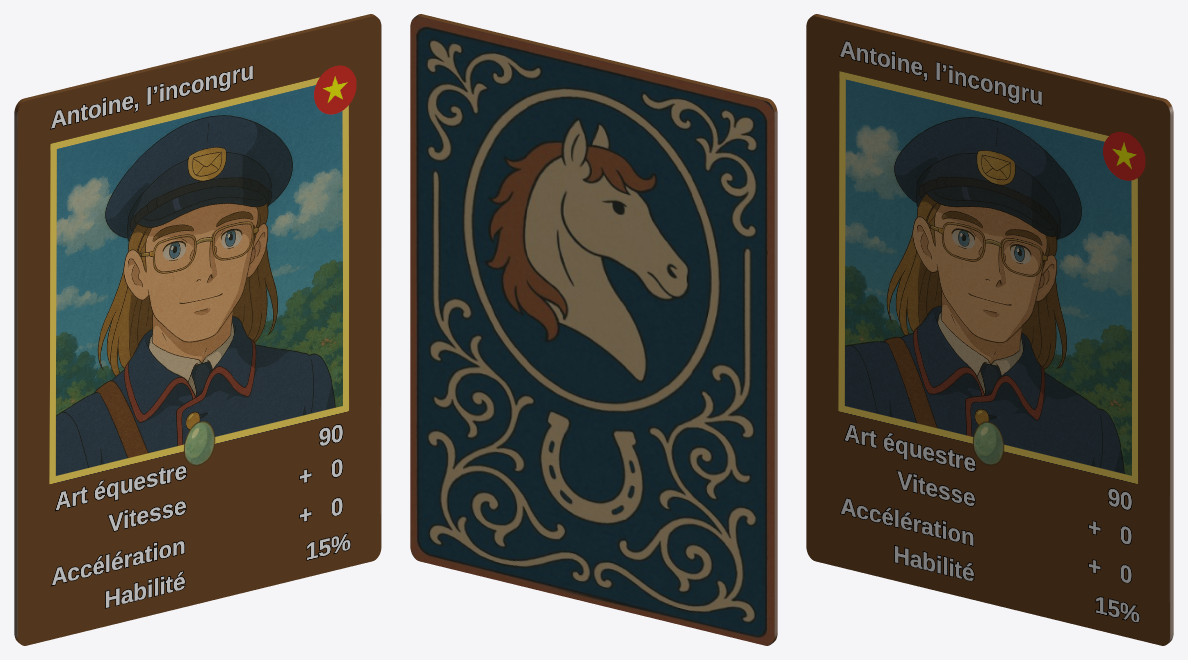
The model's file is Antoine.glb.
The picture shows the model from 3 angles, left to right: view 1: azimuth 30°, elevation 25°; view 2: azimuth 150°, elevation 25°; view 3: azimuth 330°, elevation 25°; orthographic projection.
Visible parts, largest first — view 1: Plane; view 2: Plane; view 3: Plane.
Boxes of the visible parts, x1,y1,x2,y2 form: Plane: (14, 14, 381, 645); Plane: (410, 14, 777, 645); Plane: (806, 14, 1173, 645).
Bounding box in the file's own units: 3.5 × 5 × 0.05.
2 materials, 2 textured.
